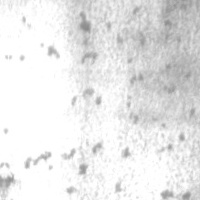pitted_surface: (8, 48, 170, 199), (100, 5, 199, 199)
